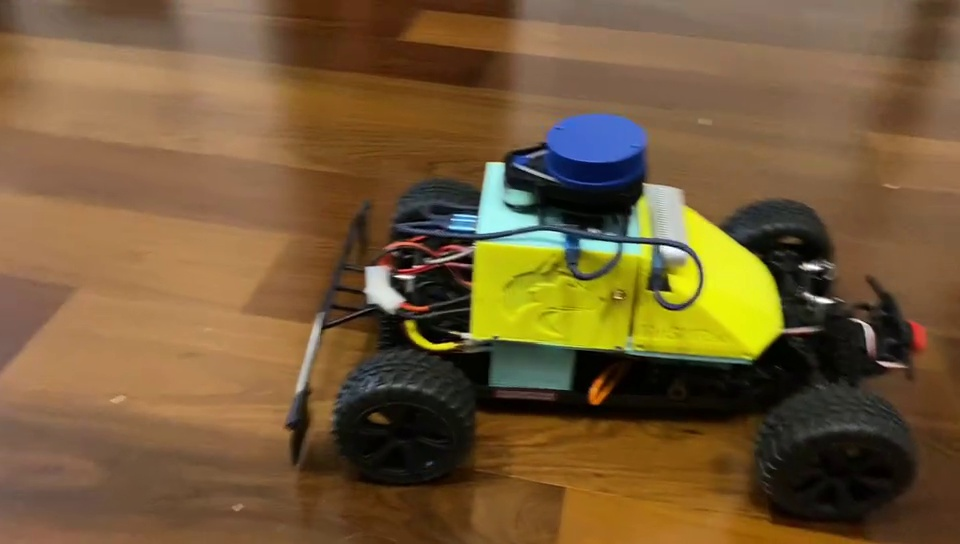mushr_car: (282, 111, 931, 522)
